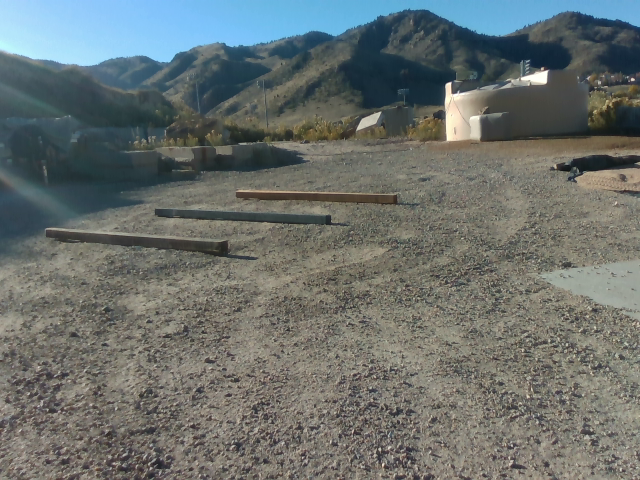dunnage: (39, 184, 403, 265)
